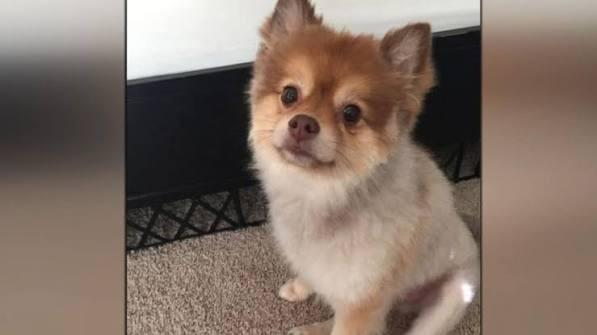adult_dog: (248, 0, 479, 335)
